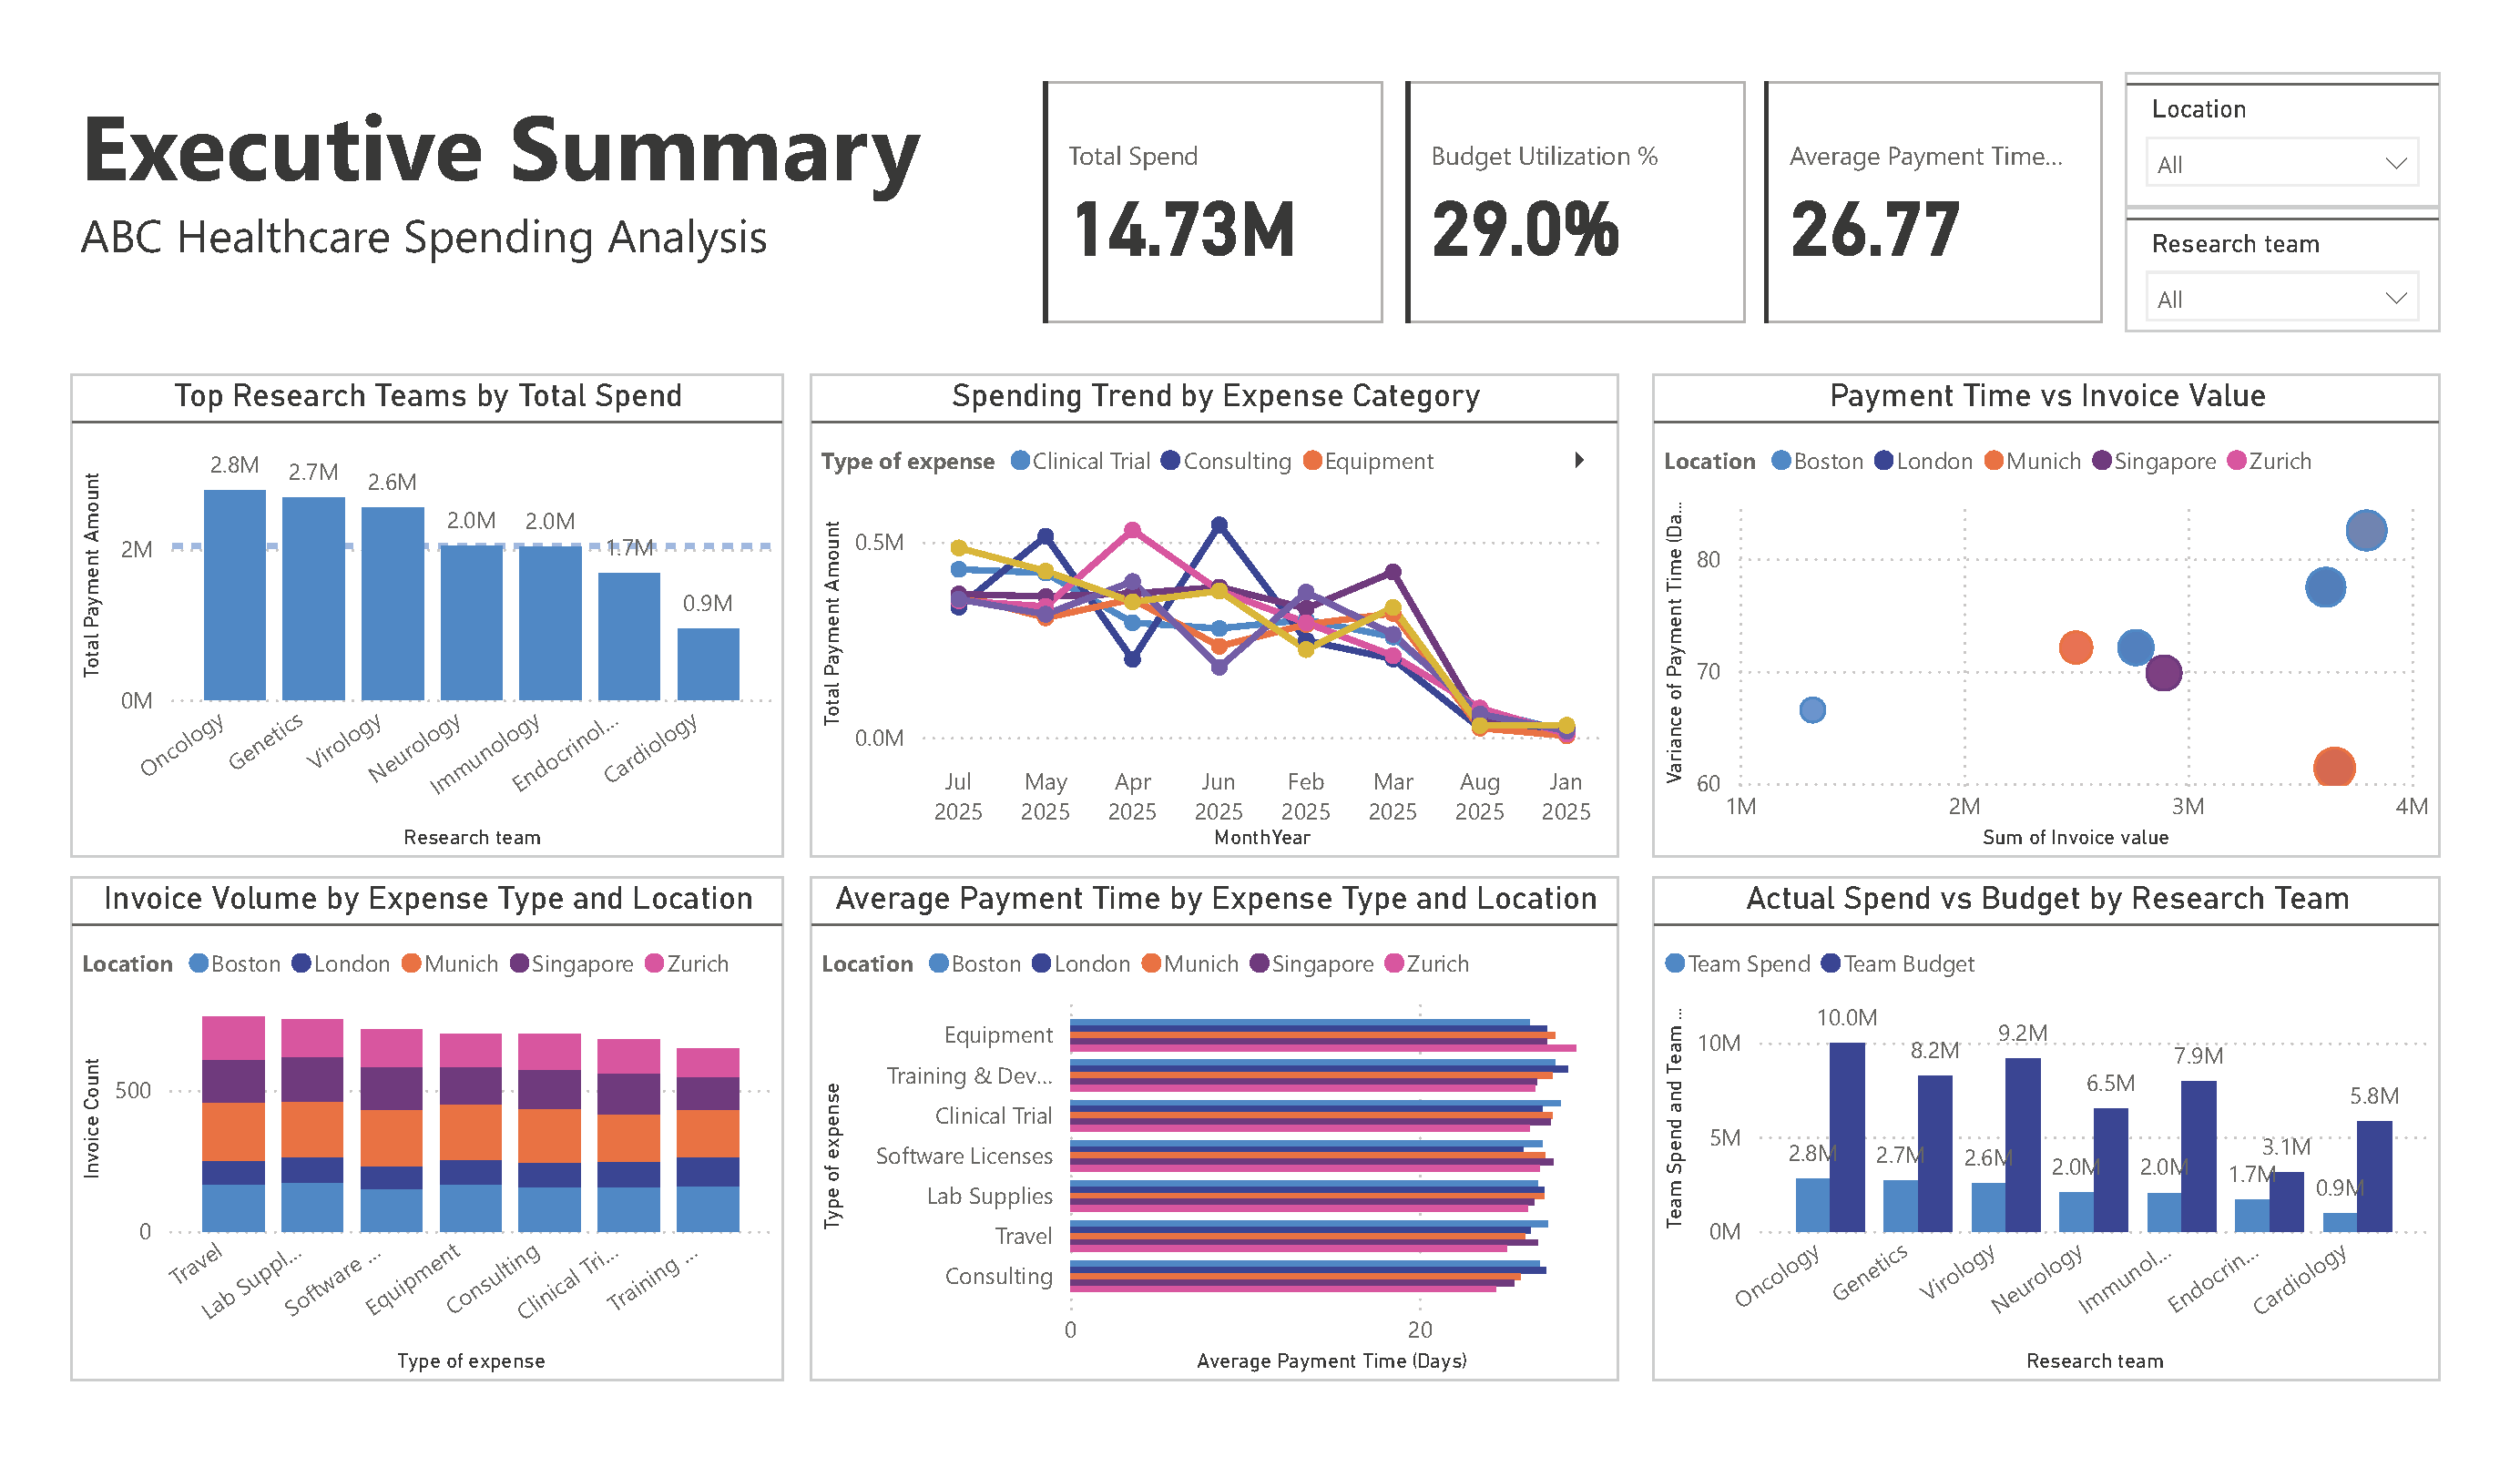

This screenshot's page, from the dashboard's own definition file:
{"tool":"powerbi","page":{"name":"Executive Summary","canvas":[1280,720],"ordinal":0},"visuals":[{"type":"clusteredColumnChart","title":"Top Research Teams by Total Spend","fields":{"Category":["payments_master.Research team"],"Y":["payments_master.Total Payment Amount"]},"box":[12.5,172.8,376.5,254.8],"z":0},{"type":"lineChart","title":"Spending Trend by Expense Category","fields":{"Category":["Calendar.MonthYear"],"Y":["payments_master.Total Payment Amount"],"Series":["payments_master.Type of expense"]},"box":[402.5,172.8,426.7,254.8],"z":1000},{"type":"columnChart","title":"Invoice Volume by Expense Type and Location","fields":{"Category":["payments_master.Type of expense"],"Y":["payments_master.Invoice Count"],"Series":["research_team_master.Location"]},"box":[12.5,438.3,376.5,265.5],"z":2000},{"type":"clusteredBarChart","title":"Average Payment Time by Expense Type and Location","fields":{"Category":["payments_master.Type of expense"],"Y":["payments_master.Average Payment Time (Days)"],"Series":["research_team_master.Location"]},"box":[402.5,438.3,426.7,265.5],"z":3000},{"type":"scatterChart","title":"Payment Time vs Invoice Value","fields":{"X":["Sum(payments_master.Invoice value)"],"Y":["Sum(payments_master.Payment Time (Days))"],"Category":["payments_master.Research team"],"Series":["research_team_master.Location"],"Size":["Sum(payments_master.Payment amount)"]},"box":[846.6,172.8,415.1,254.8],"z":3001},{"type":"clusteredColumnChart","title":"Actual Spend vs Budget by Research Team","fields":{"Category":["payments_master.Research team"],"Y":["payments_master.Team Spend","research_team_master.Team Budget"]},"box":[846.6,438.3,415.1,265.5],"z":3002},{"type":"cardVisual","fields":{"Data":["payments_master.Total Spend"]},"box":[521.3,14.5,188.2,136.1],"z":3003},{"type":"cardVisual","fields":{"Data":["payments_master.Average Payment Time (Days)"]},"box":[900.6,14.5,188.2,136.1],"z":3004},{"type":"cardVisual","fields":{"Data":["payments_master.Budget Utilization %"]},"box":[712.4,14.5,188.2,136.1],"z":3005},{"type":"slicer","fields":{"Values":["payments_master.Research team"]},"box":[1095.6,84.9,166,65.6],"z":3006},{"type":"slicer","fields":{"Values":["research_team_master.Location"]},"box":[1095.6,14.5,166,70.5],"z":3007},{"type":"textbox","box":[12.5,14.5,497.1,136.1],"z":3008}]}

Visuals, with their boxes in screenshot pixels (x1, y1, x2, y2):
"Top Research Teams by Total Spend" clusteredColumnChart: <region>69, 373, 784, 857</region>
"Spending Trend by Expense Category" lineChart: <region>810, 373, 1619, 857</region>
"Invoice Volume by Expense Type and Location" columnChart: <region>69, 877, 784, 1381</region>
"Average Payment Time by Expense Type and Location" clusteredBarChart: <region>810, 877, 1619, 1381</region>
"Payment Time vs Invoice Value" scatterChart: <region>1652, 373, 2440, 857</region>
"Actual Spend vs Budget by Research Team" clusteredColumnChart: <region>1652, 877, 2440, 1381</region>
cardVisual - payments_master.Total Spend: <region>1035, 73, 1392, 331</region>
cardVisual - payments_master.Average Payment Time (Days): <region>1754, 73, 2112, 331</region>
cardVisual - payments_master.Budget Utilization %: <region>1397, 73, 1754, 331</region>
slicer - payments_master.Research team: <region>2125, 207, 2440, 331</region>
slicer - research_team_master.Location: <region>2125, 73, 2440, 207</region>
textbox: <region>69, 73, 1013, 331</region>
